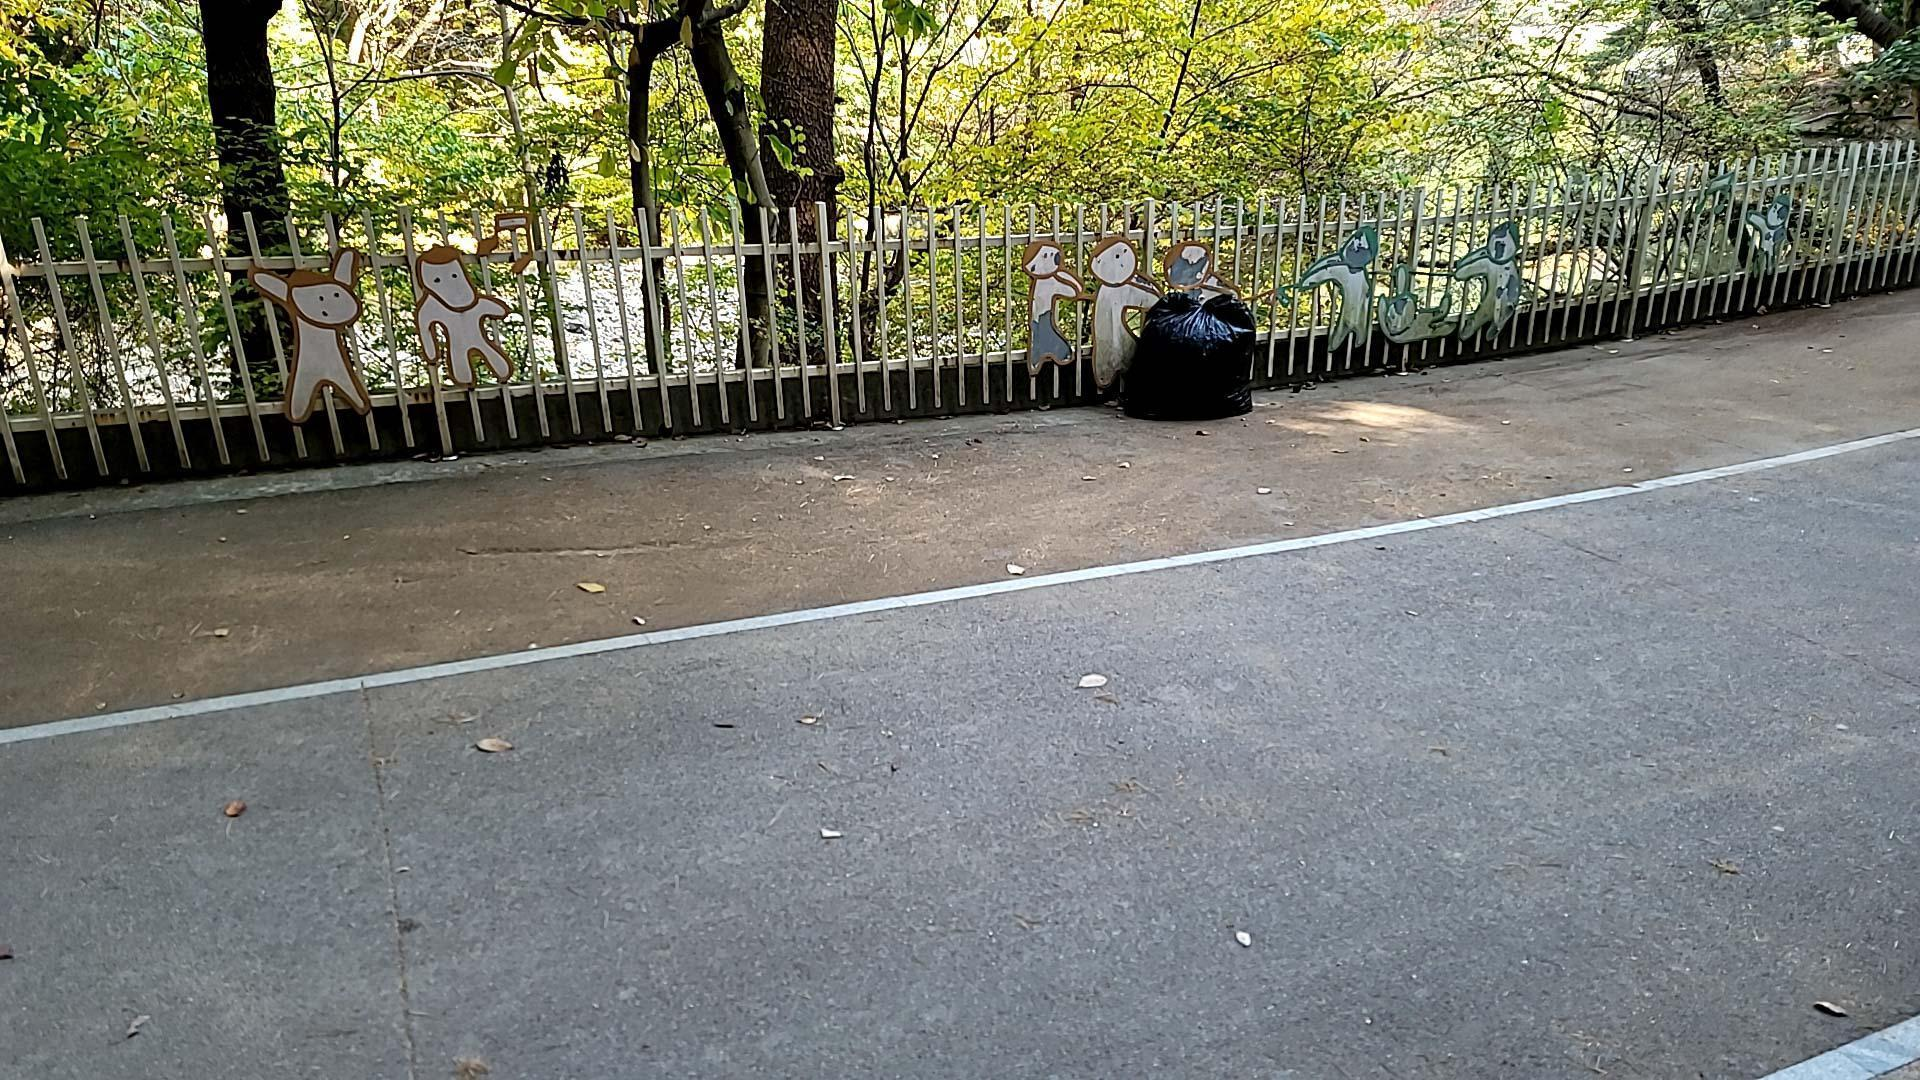white_bag: (1121, 284, 1259, 423)
